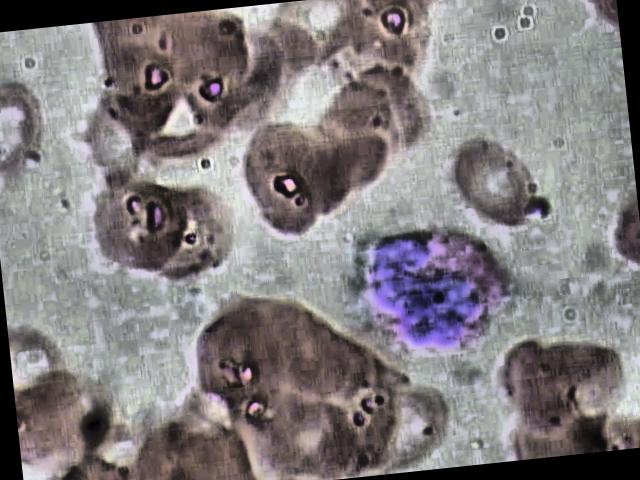RBC: (182, 298, 308, 420), (152, 4, 278, 126), (134, 178, 253, 292), (82, 172, 201, 285), (234, 120, 337, 250), (47, 92, 166, 204), (438, 124, 556, 236), (12, 368, 130, 476), (488, 322, 594, 440), (242, 385, 368, 480), (281, 111, 363, 238), (310, 84, 392, 211), (334, 63, 416, 190), (362, 56, 444, 183), (328, 0, 446, 88), (364, 377, 466, 474), (8, 320, 90, 424), (0, 74, 56, 183)
WBC: (358, 209, 524, 366)
